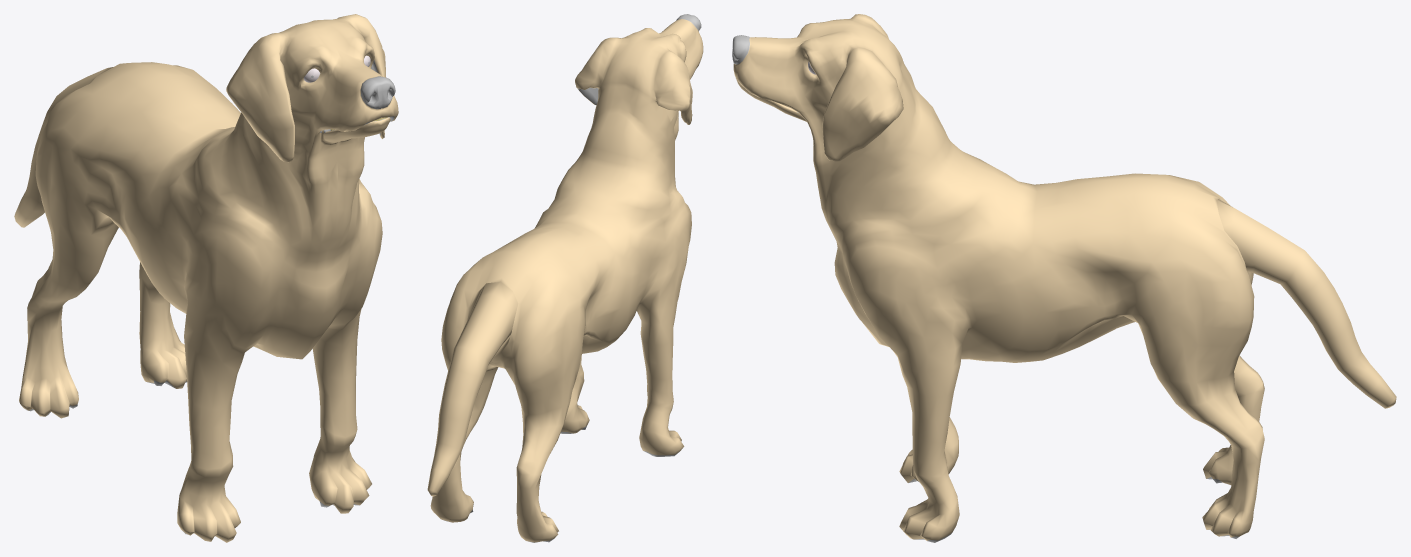
The model's file is DogProp.OBJ.
The picture shows the model from 3 angles, left to right: view 1: azimuth 30°, elevation 25°; view 2: azimuth 150°, elevation 25°; view 3: azimuth 270°, elevation 25°; orthographic projection. The views are drawn at different scales.
Visible parts, largest first — view 1: Figure_1; view 2: Figure_1; view 3: Figure_1.
Part boxes in pixels (x1=…): Figure_1: x1=14, y1=14, x2=398, y2=542; Figure_1: x1=427, y1=14, x2=703, y2=542; Figure_1: x1=732, y1=14, x2=1396, y2=542.
Bounding box in the file's own units: 0.1469 × 0.3941 × 0.494.
